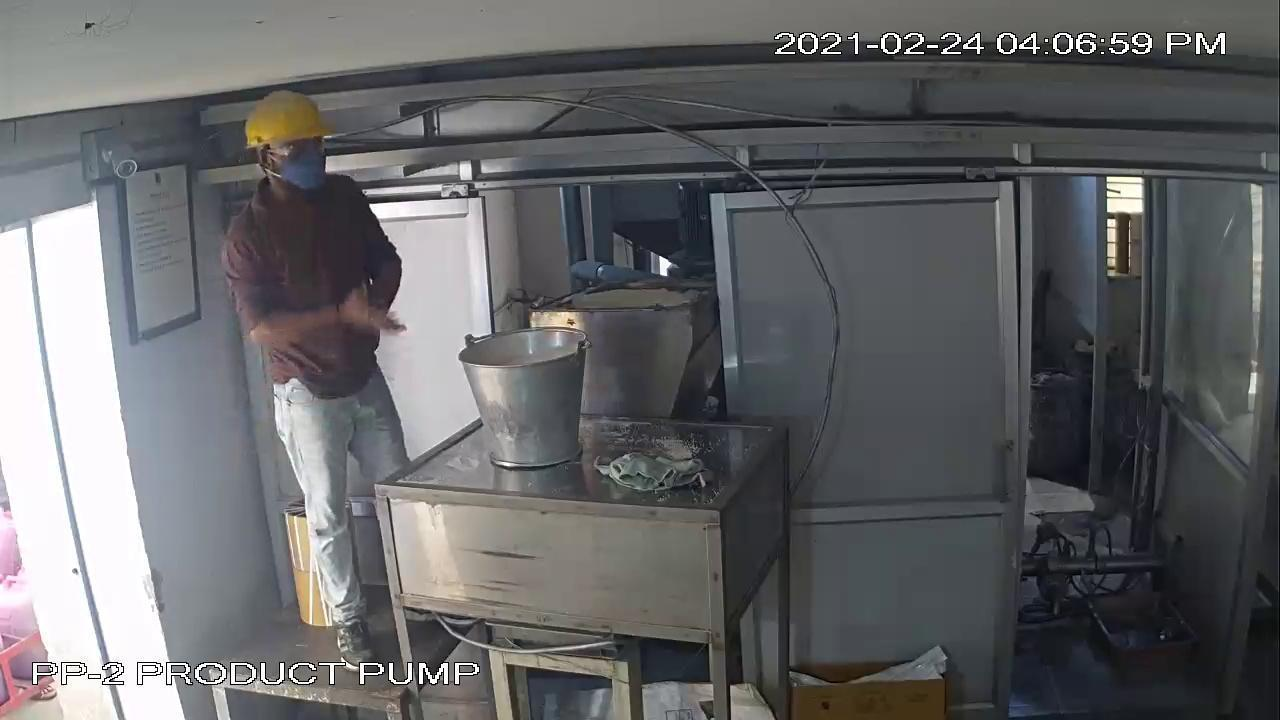helmet: (238, 86, 343, 178)
